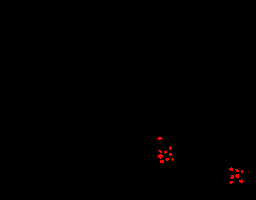Target: (158, 154, 163, 159), (229, 167, 233, 171), (235, 174, 239, 178), (230, 175, 234, 179), (239, 179, 243, 183), (158, 137, 162, 140), (169, 146, 172, 150), (158, 150, 162, 153), (165, 158, 169, 161), (160, 160, 164, 163), (235, 169, 239, 172), (229, 181, 233, 184), (164, 151, 167, 154), (169, 153, 172, 156), (171, 158, 174, 161), (241, 170, 244, 173)
